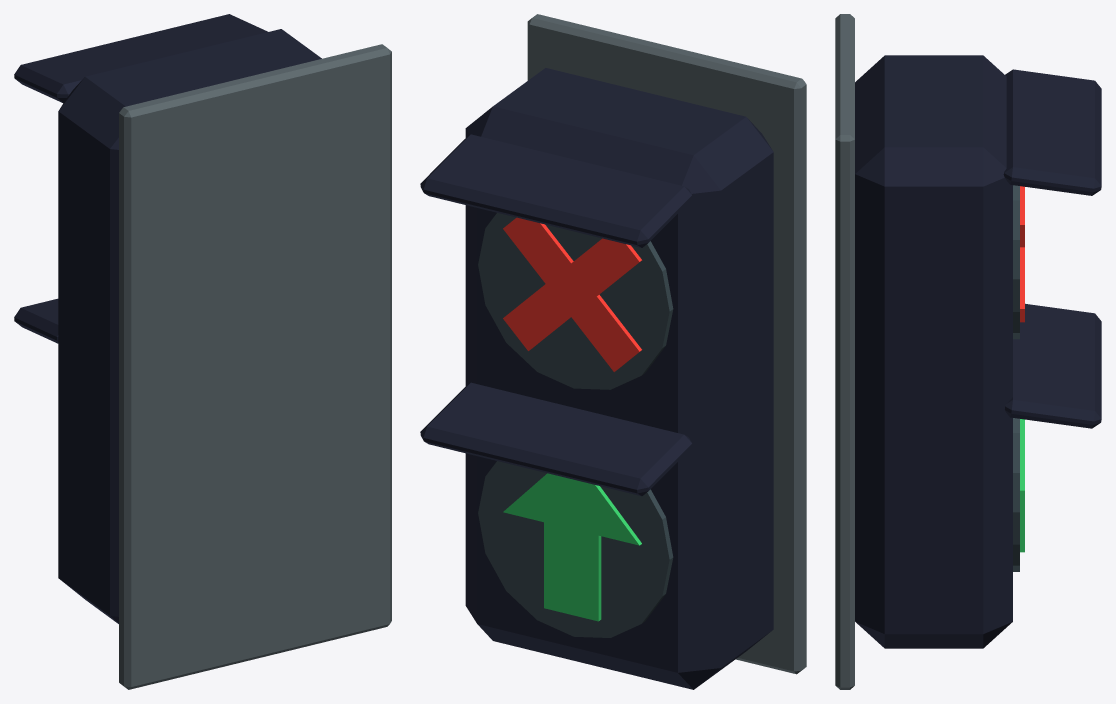
The model's file is sm_env_depot_door_light.glb.
3 views of the same model, side by side, from view 1: azimuth 30°, elevation 25°; view 2: azimuth 150°, elevation 25°; view 3: azimuth 270°, elevation 25° (orthographic). The views are drawn at different scales.
Visible parts, largest first — view 1: Bracket, Housing, Visor, Visor.001; view 2: Housing, Bracket, Visor.001, Visor, LensBack.001, LensBack, DoorLightRed, DoorLightGreen; view 3: Housing, Bracket, Visor, Visor.001, LensBack, LensBack.001, DoorLightRed, DoorLightGreen.
Part boxes in pixels (bbox=[...]): Bracket: bbox=[119, 44, 391, 689]; Housing: bbox=[58, 29, 321, 623]; Visor: bbox=[14, 14, 267, 103]; Visor.001: bbox=[14, 298, 58, 343]; Housing: bbox=[465, 68, 773, 689]; Bracket: bbox=[527, 14, 806, 674]; Visor.001: bbox=[420, 382, 692, 496]; Visor: bbox=[420, 134, 692, 247]; LensBack.001: bbox=[478, 461, 673, 637]; LensBack: bbox=[478, 213, 673, 389]; DoorLightRed: bbox=[503, 217, 641, 371]; DoorLightGreen: bbox=[503, 473, 641, 621]; Housing: bbox=[855, 55, 1012, 648]; Bracket: bbox=[835, 14, 854, 689]; Visor: bbox=[1003, 69, 1101, 195]; Visor.001: bbox=[1005, 303, 1101, 428]; LensBack: bbox=[1013, 185, 1019, 339]; LensBack.001: bbox=[1013, 418, 1019, 571]; DoorLightRed: bbox=[1020, 186, 1024, 322]; DoorLightGreen: bbox=[1020, 419, 1024, 552].
Size of the model in its own units: 0.3 by 0.62 by 0.2697.
